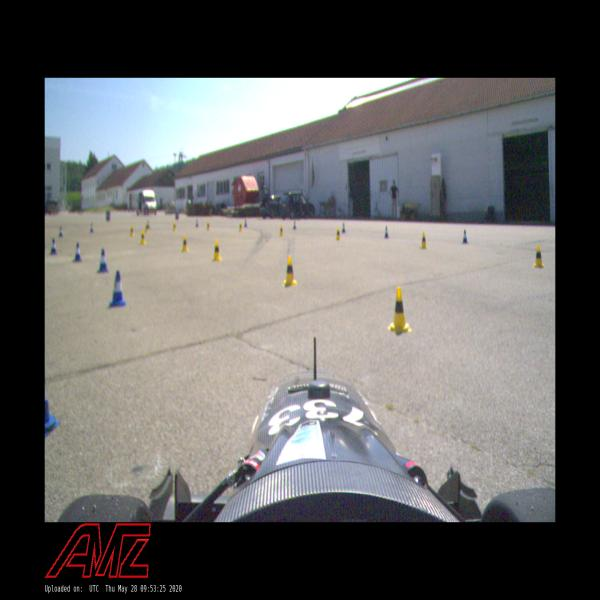blue_cone: (108, 271, 126, 308), (97, 248, 108, 274), (73, 241, 82, 262), (49, 237, 57, 256), (462, 228, 469, 243), (383, 224, 390, 238), (58, 224, 63, 238), (89, 221, 94, 233), (194, 218, 199, 228), (342, 222, 346, 234), (292, 219, 296, 230), (244, 219, 247, 228)
yellow_cone: (387, 287, 412, 336), (282, 254, 299, 288), (532, 244, 544, 268), (212, 238, 222, 261), (180, 233, 189, 251), (420, 231, 429, 248), (139, 230, 146, 245), (278, 223, 285, 237), (335, 226, 341, 241), (129, 224, 134, 237), (172, 218, 177, 230), (144, 222, 149, 234), (206, 219, 210, 229), (238, 221, 242, 231)
